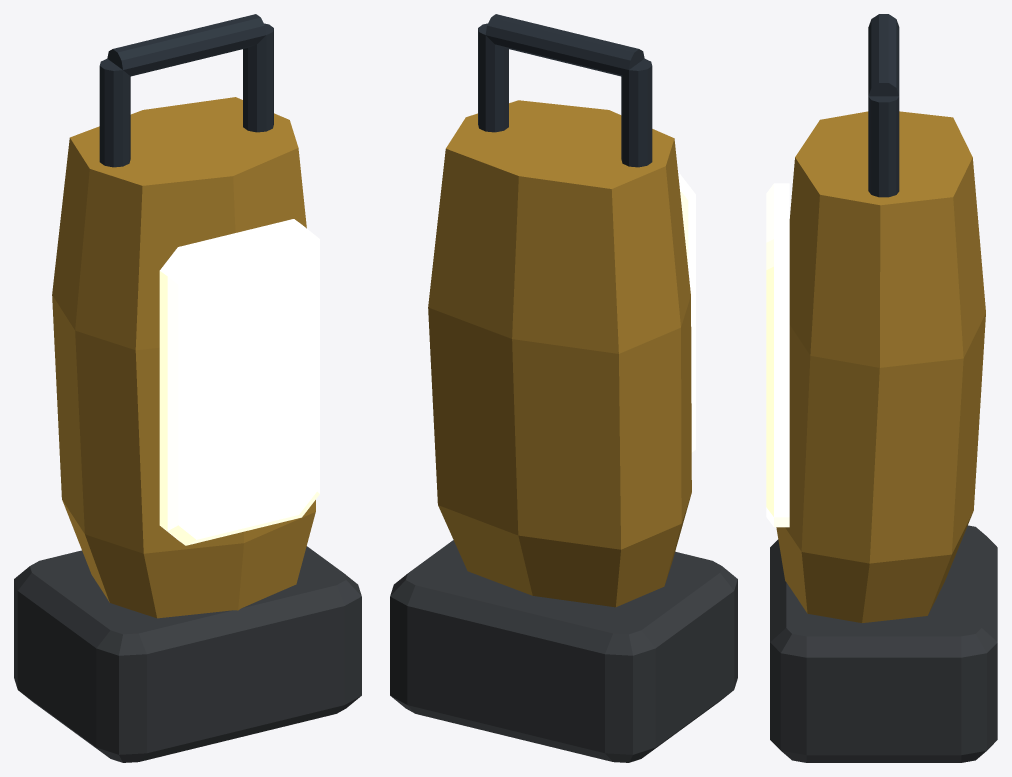
Rendered from T-05_worklight.glb.
3 renders of one model, left to right at view 1: azimuth 30°, elevation 25°; view 2: azimuth 150°, elevation 25°; view 3: azimuth 270°, elevation 25°, orthographic.
Visible parts, largest first — view 1: T-05_worklight; view 2: T-05_worklight; view 3: T-05_worklight.
Boxes of the visible parts, <box> form: T-05_worklight: <box>14,14,361,762</box>; T-05_worklight: <box>390,14,737,762</box>; T-05_worklight: <box>766,14,997,762</box>.
Bounding box in the file's own units: 0.115 × 0.2807 × 0.0895.
